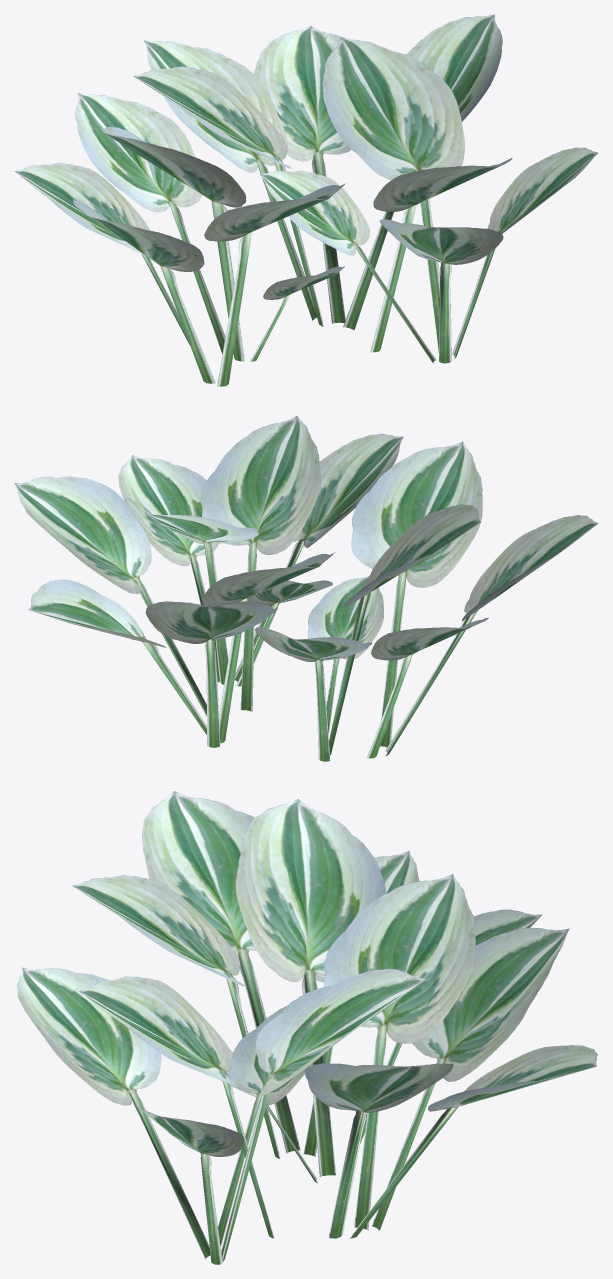
The model's file is plant_small_wg_01Y.fbx.
The picture shows the model from 3 angles, top to bottom: view 1: azimuth 30°, elevation 25°; view 2: azimuth 150°, elevation 25°; view 3: azimuth 270°, elevation 25°; orthographic projection. The views are drawn at different scales.
Parts seen in each view (by area): view 1: plant_small_wg_01Y; view 2: plant_small_wg_01Y; view 3: plant_small_wg_01Y.
Part boxes in pixels (x1,y1,x2,y2): plant_small_wg_01Y: (14,14,598,386); plant_small_wg_01Y: (14,416,598,761); plant_small_wg_01Y: (17,791,597,1264).
Size of the model in its own units: 101 by 51.44 by 91.47.
